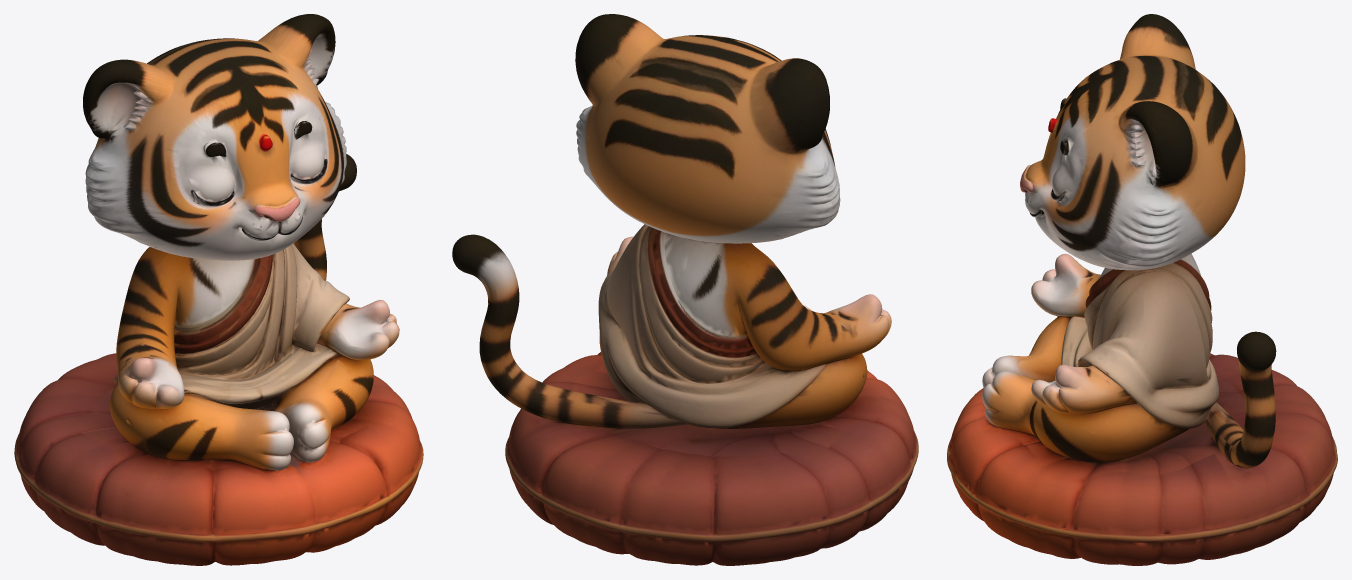
Rendered from tiger-meditate-closed.glb.
3 renders of one model, left to right at view 1: azimuth 30°, elevation 25°; view 2: azimuth 150°, elevation 25°; view 3: azimuth 270°, elevation 25°, orthographic. The views are drawn at different scales.
Visible parts, largest first — view 1: node_0; view 2: node_0; view 3: node_0.
Boxes of the visible parts, box(x1,y1,x2,y2) form: node_0: box(14, 14, 423, 565); node_0: box(452, 14, 918, 565); node_0: box(947, 14, 1337, 565).
Bounding box in the file's own units: 0.8311 × 0.9748 × 0.7873.
Materials: 1 (1 with a texture image).
